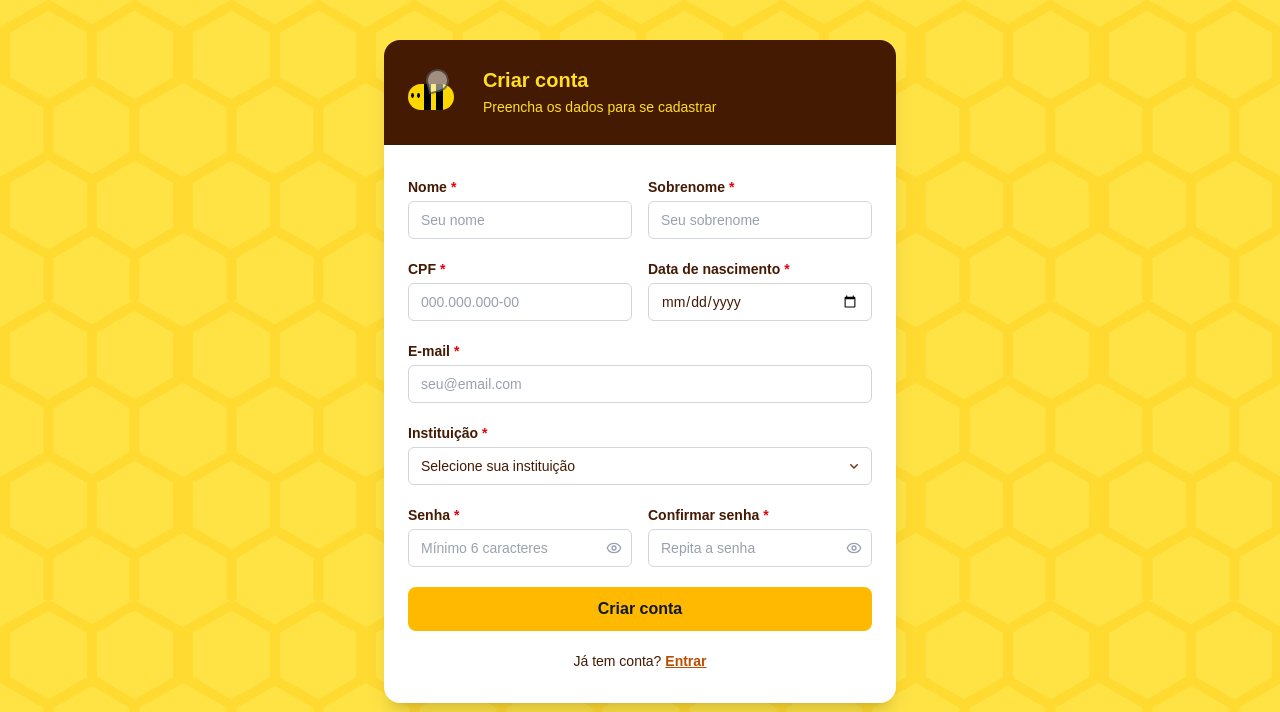
Test: Página de Cadastro — integração › valida nome com menos de 2 caracteres
Expected: the button "Criar conta" is shown, [408,587,872,631]
Type "A" into the field with id "nome" at point(520, 220), box [408,201,632,239]
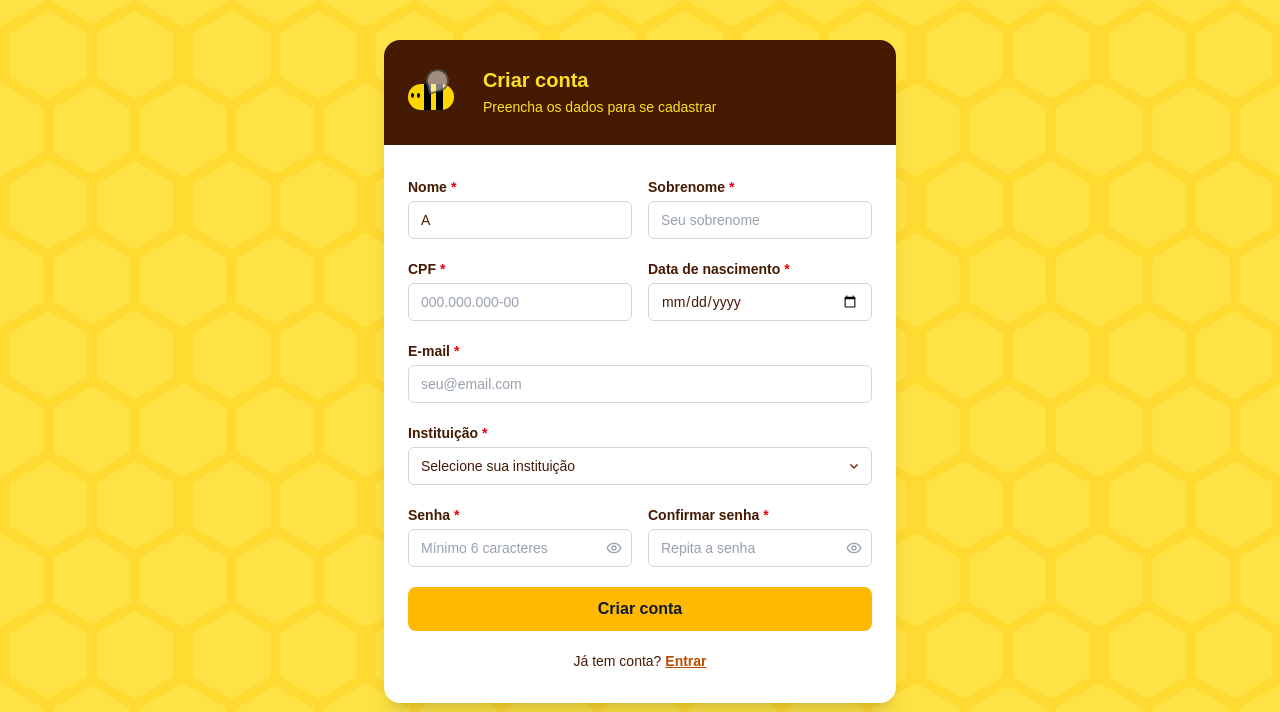
Click the button "Criar conta" at point(640, 609), box [408,587,872,631]
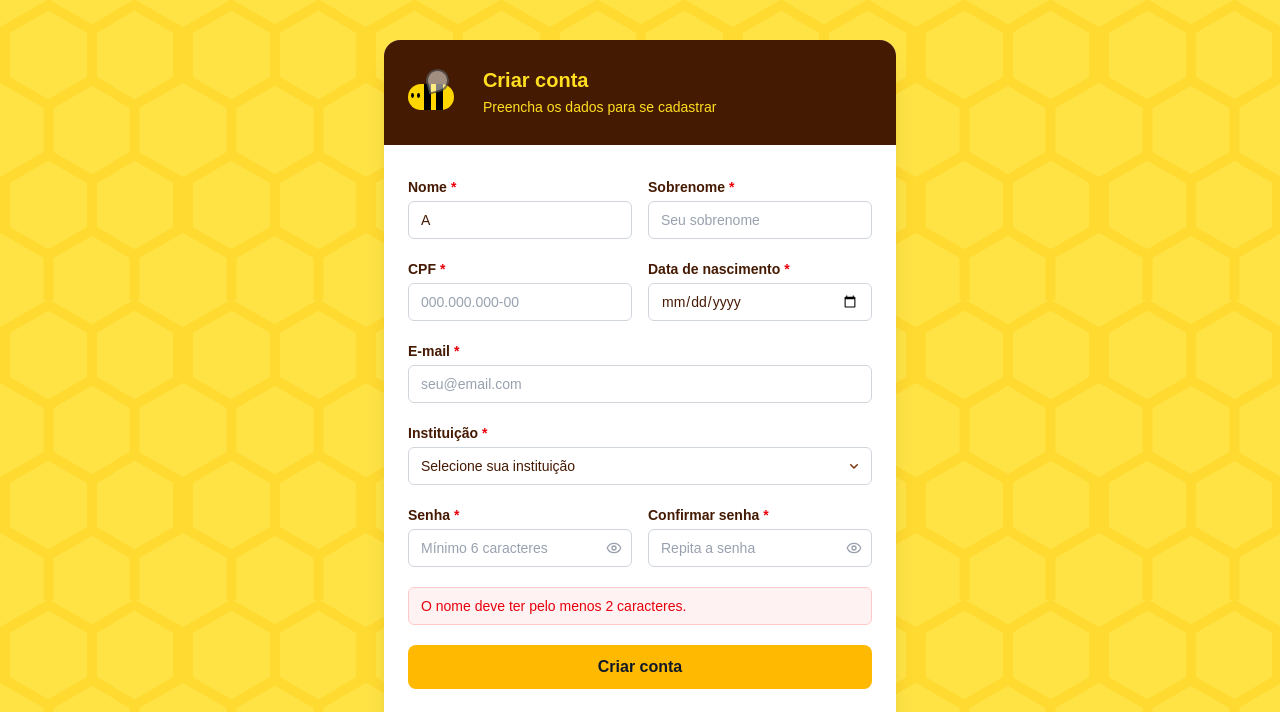
Now the message shows "nome deve ter pelo menos 2", box [421,598,686,614]
